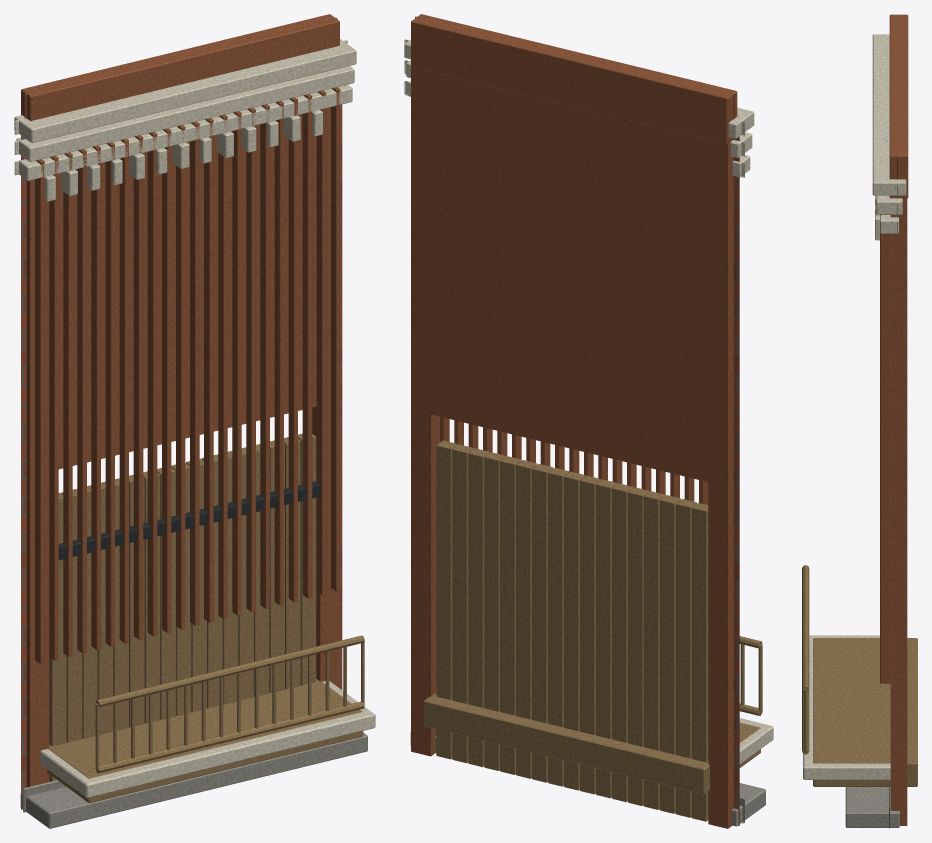
The model's file is WHSE16_lod1.glb.
3 renders of one model, left to right at view 1: azimuth 30°, elevation 25°; view 2: azimuth 150°, elevation 25°; view 3: azimuth 270°, elevation 25°, orthographic. The views are drawn at different scales.
Visible parts, largest first — view 1: WHSE16_FRONT_LOD1; view 2: WHSE16_FRONT_LOD1; view 3: WHSE16_FRONT_LOD1.
Part boxes in pixels (x1,y1,x2,y2): WHSE16_FRONT_LOD1: (14,14,375,828); WHSE16_FRONT_LOD1: (404,14,773,828); WHSE16_FRONT_LOD1: (802,14,917,828).
Bounding box in the file's own units: 3.44 × 7.05 × 1.1.
Materials: 7 (7 with a texture image).
